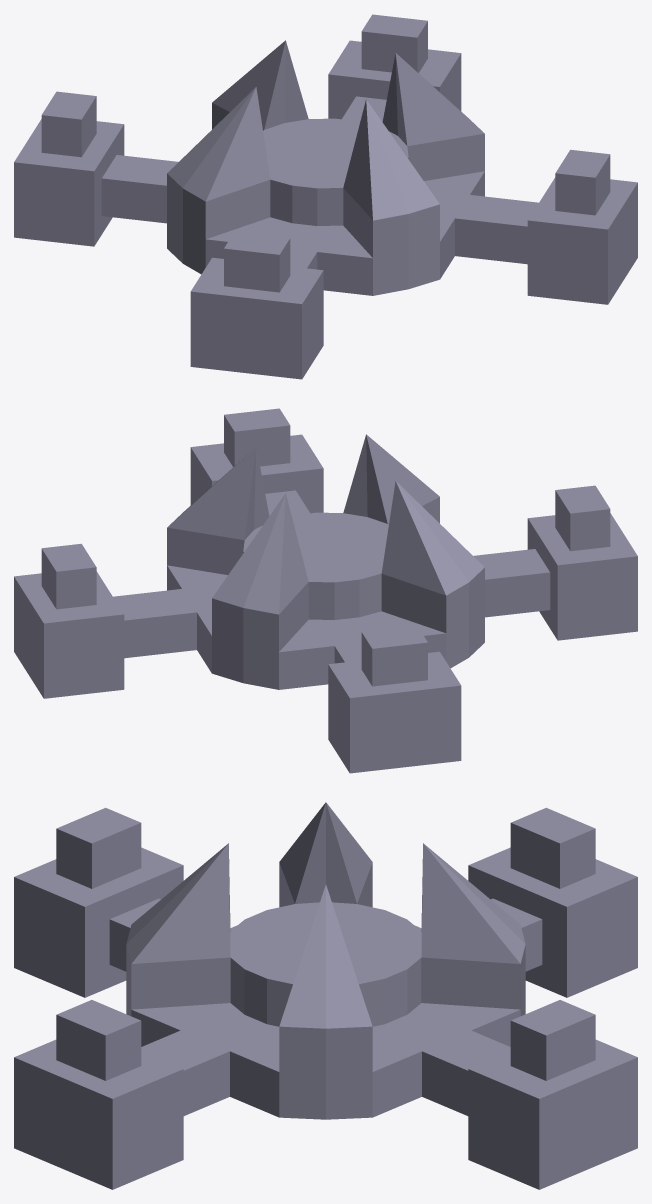
The model's file is propCrystalStand01_Big.fbx.
3 renders of one model, top to bottom at view 1: azimuth 30°, elevation 25°; view 2: azimuth 150°, elevation 25°; view 3: azimuth 270°, elevation 25°, orthographic. The views are drawn at different scales.
Parts seen in each view (by area): view 1: propCrystalStand; view 2: propCrystalStand; view 3: propCrystalStand.
Part boxes in pixels (left/top/right/bottom): propCrystalStand: left=14, top=14, right=637, bottom=379; propCrystalStand: left=14, top=408, right=637, bottom=773; propCrystalStand: left=14, top=802, right=637, bottom=1189.
Bounding box in the file's own units: 621 × 236 × 621.
